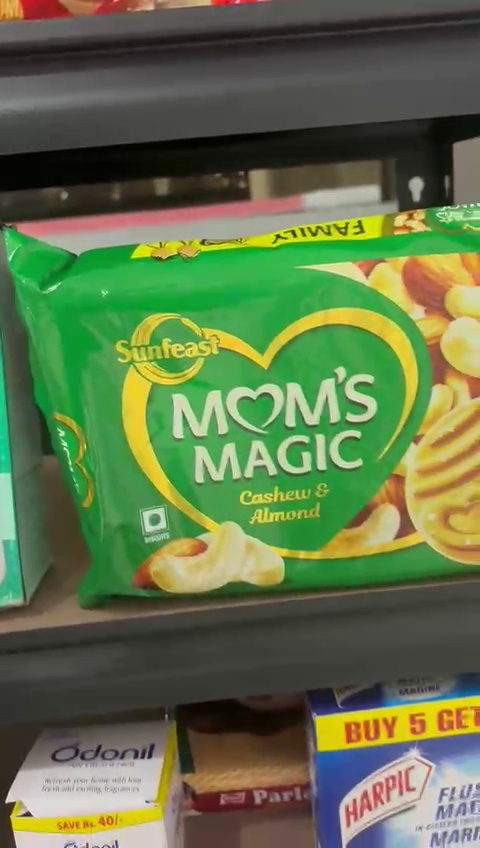Moms magic: (8, 234, 480, 608)
